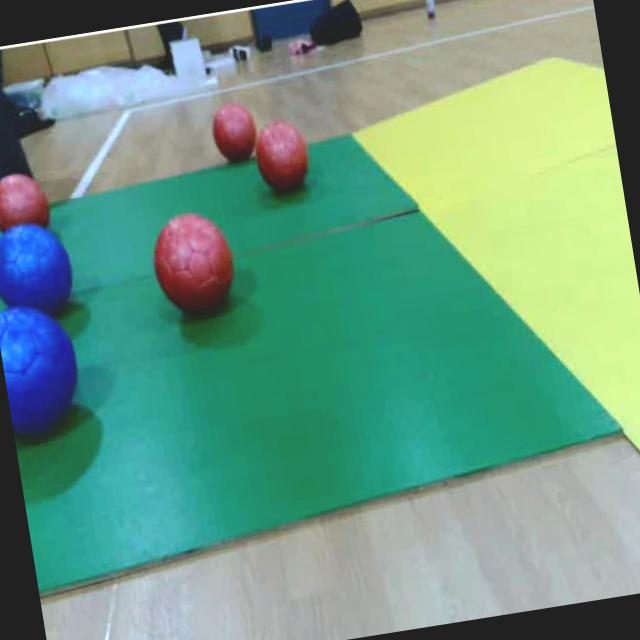blue_ball: (0, 301, 87, 442), (0, 221, 80, 329)
red_ball: (144, 203, 243, 330), (248, 115, 316, 206), (209, 98, 258, 165), (0, 169, 52, 230)
